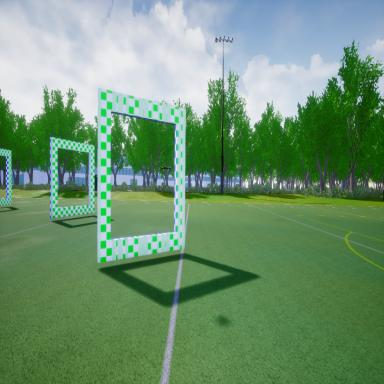gate: (94, 80, 188, 268), (48, 132, 97, 222)
